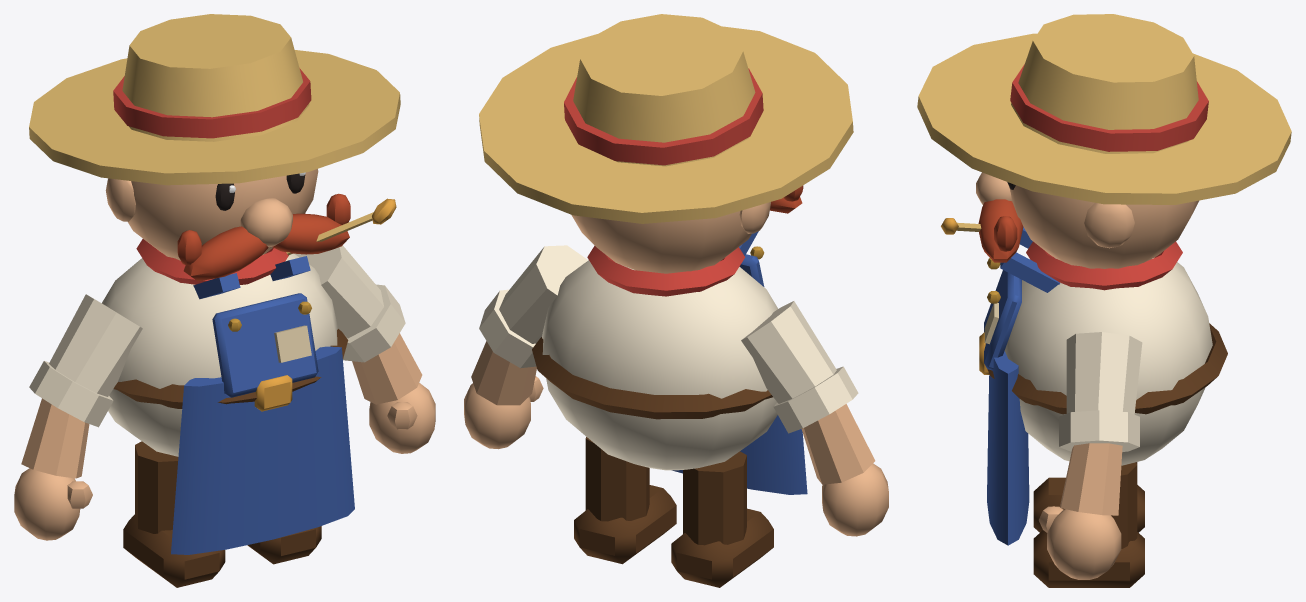
File: CH_Costume_Barlo_Hasat.fbx
The picture shows the model from 3 angles, left to right: view 1: azimuth 30°, elevation 25°; view 2: azimuth 150°, elevation 25°; view 3: azimuth 270°, elevation 25°; orthographic projection.
Parts seen in each view (by area): view 1: CH_Costume_Barlo_Hasat; view 2: CH_Costume_Barlo_Hasat; view 3: CH_Costume_Barlo_Hasat.
Boxes of the visible parts, x1,y1,x2,y2 form: CH_Costume_Barlo_Hasat: [14, 14, 435, 587]; CH_Costume_Barlo_Hasat: [464, 14, 888, 587]; CH_Costume_Barlo_Hasat: [917, 14, 1291, 587].
Bounding box in the file's own units: 0.9352 × 1.12 × 0.7386.
1 material, 1 textured.
